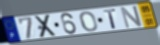6: (60, 12, 78, 36)
7: (16, 15, 34, 40)
N: (120, 5, 144, 30)
O: (79, 10, 99, 33)
T: (103, 8, 118, 30)
X: (33, 14, 58, 39)
